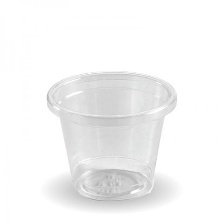glass: (39, 68, 195, 207)
